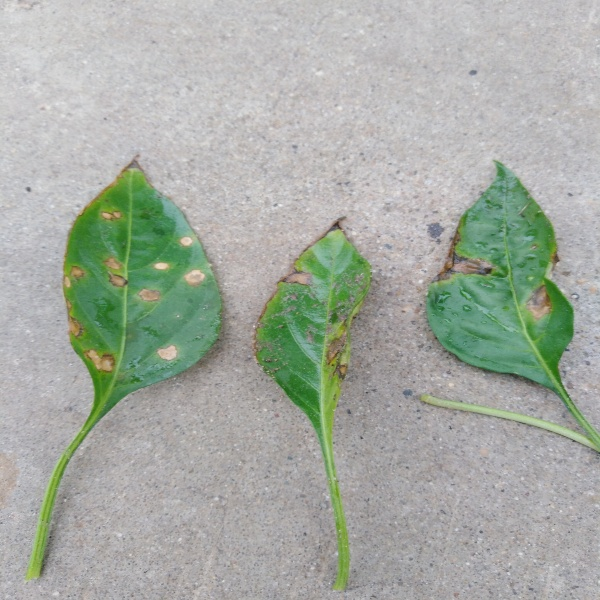Anthrax: (62, 207, 204, 372), (429, 227, 558, 315), (279, 265, 351, 384)
